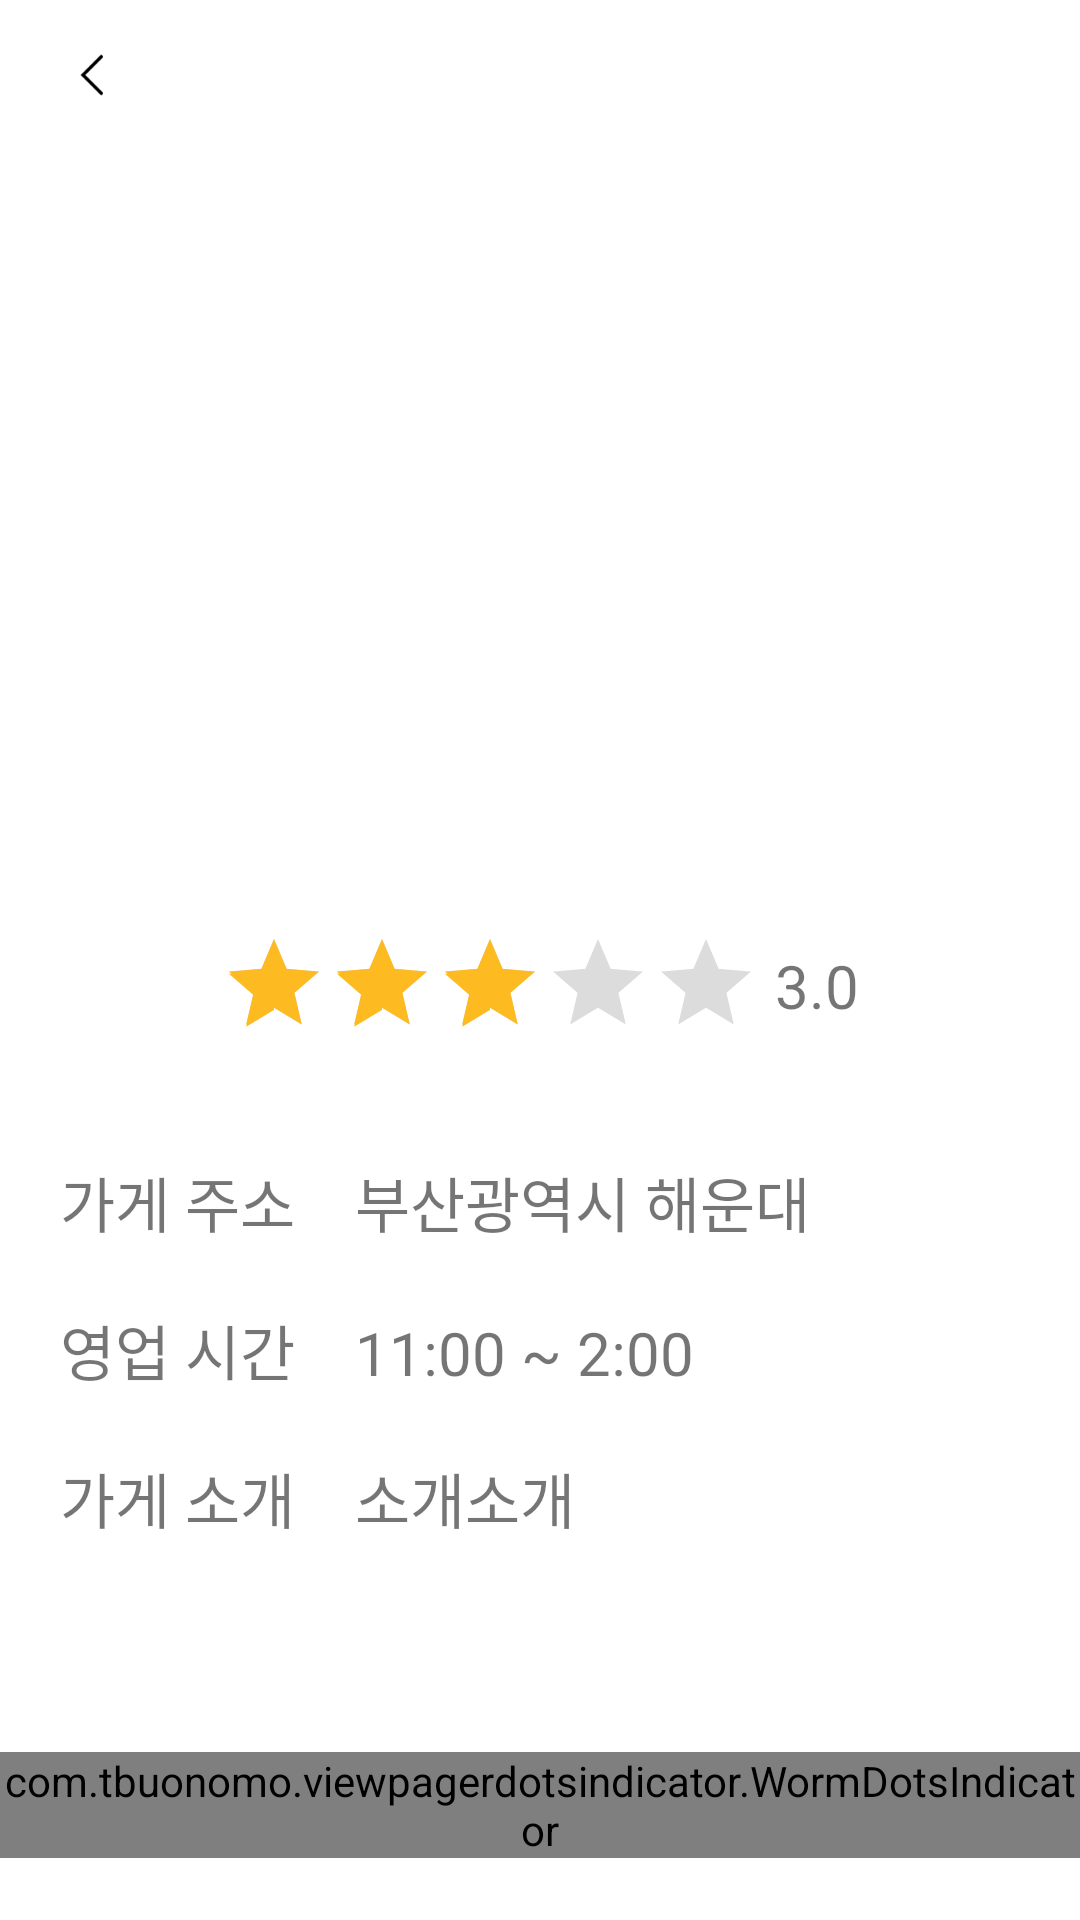

Where to tap for icons on this 1080x1920 app screen, as (x,y):
back: (91,75)
